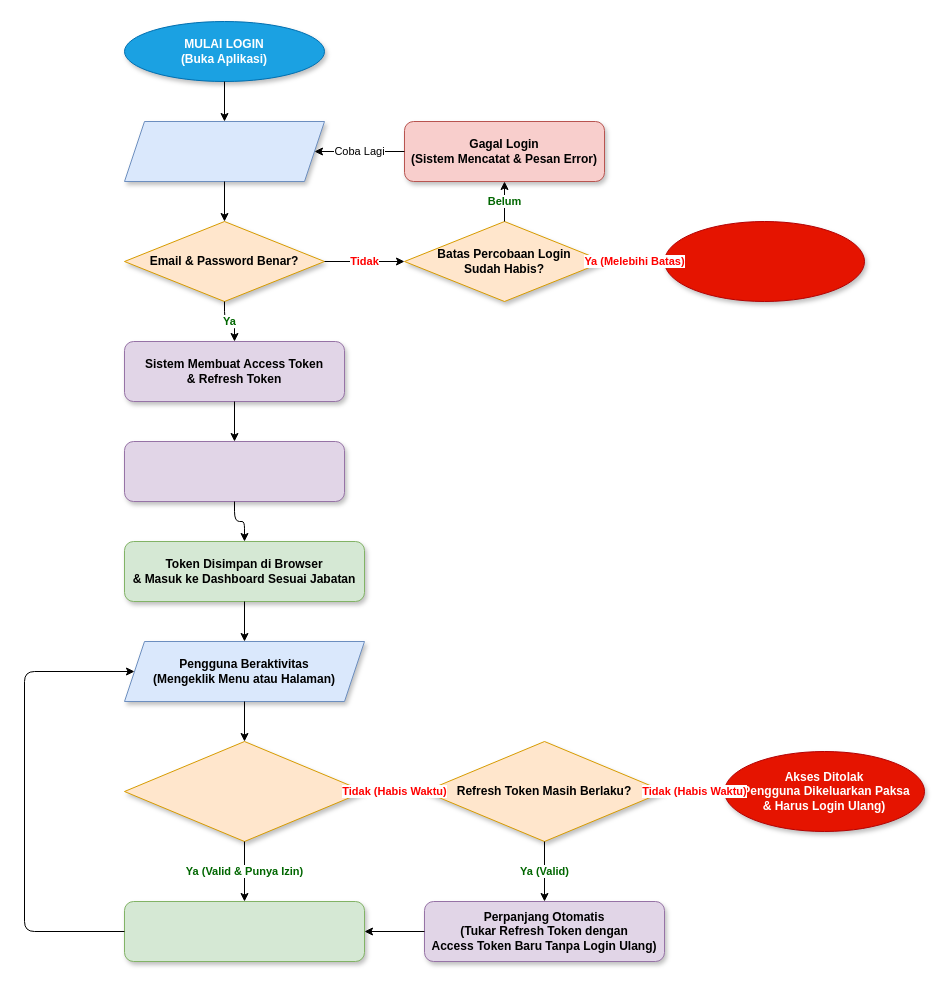
The diagram is 948 pixels wide and 986 high, and some of its shapes have lost their labels. The shapes that lost their labels are listed below. From the top down, each one's centre as x and y in pixels, then its label:
At pixel 225 152: "Masukkan Email & Password".
At pixel 765 262: "Akses Diblokir Sementara (Terlalu Banyak Mencoba)".
At pixel 235 472: "Atur Batas Waktu Akses (Admin: 3 Jam, Karyawan: 1 Jam)".
At pixel 245 792: "Access Token Masih Berlaku & Memiliki Izin Buka Halaman?".
At pixel 245 932: "Izinkan Akses (Halaman Ditampilkan)".
